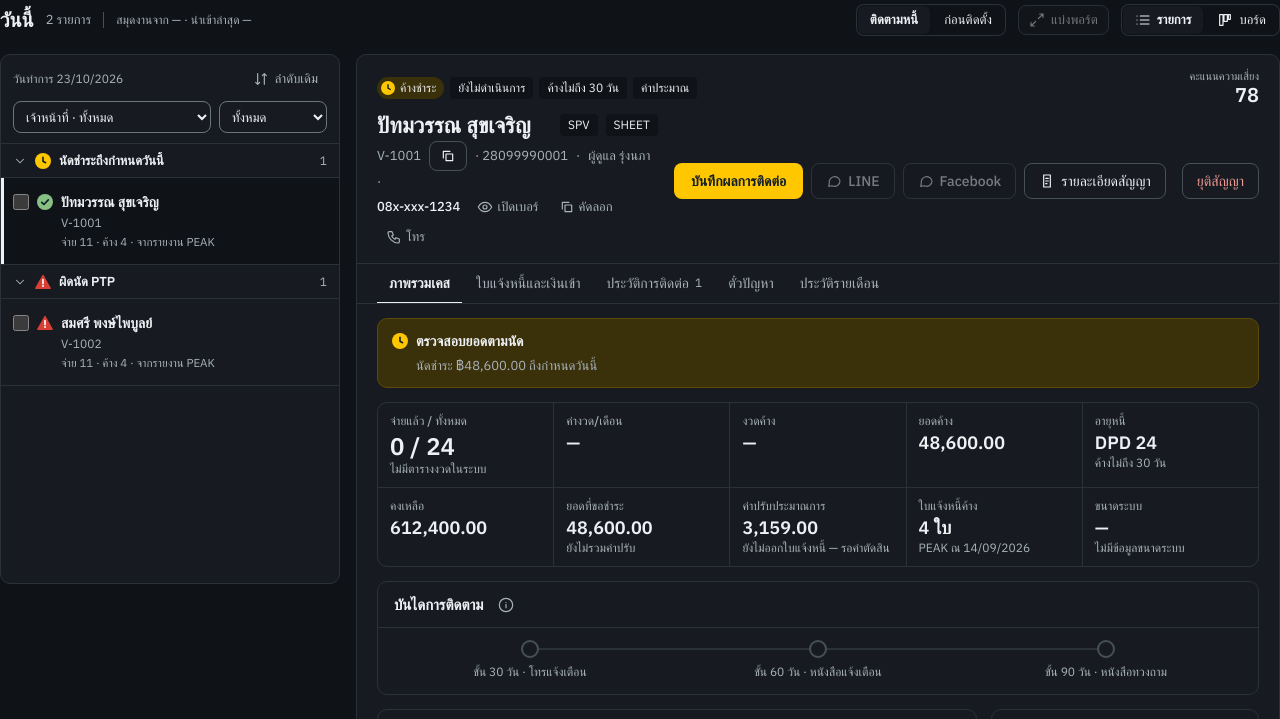
Test: Today bulk assignment (F10) › clears the previous desk and assignment selection while another officer loads
Click the checkbox named "เลือก ปัทมวรรณ สุขเจริญ": (21, 202) [13,194,29,210]
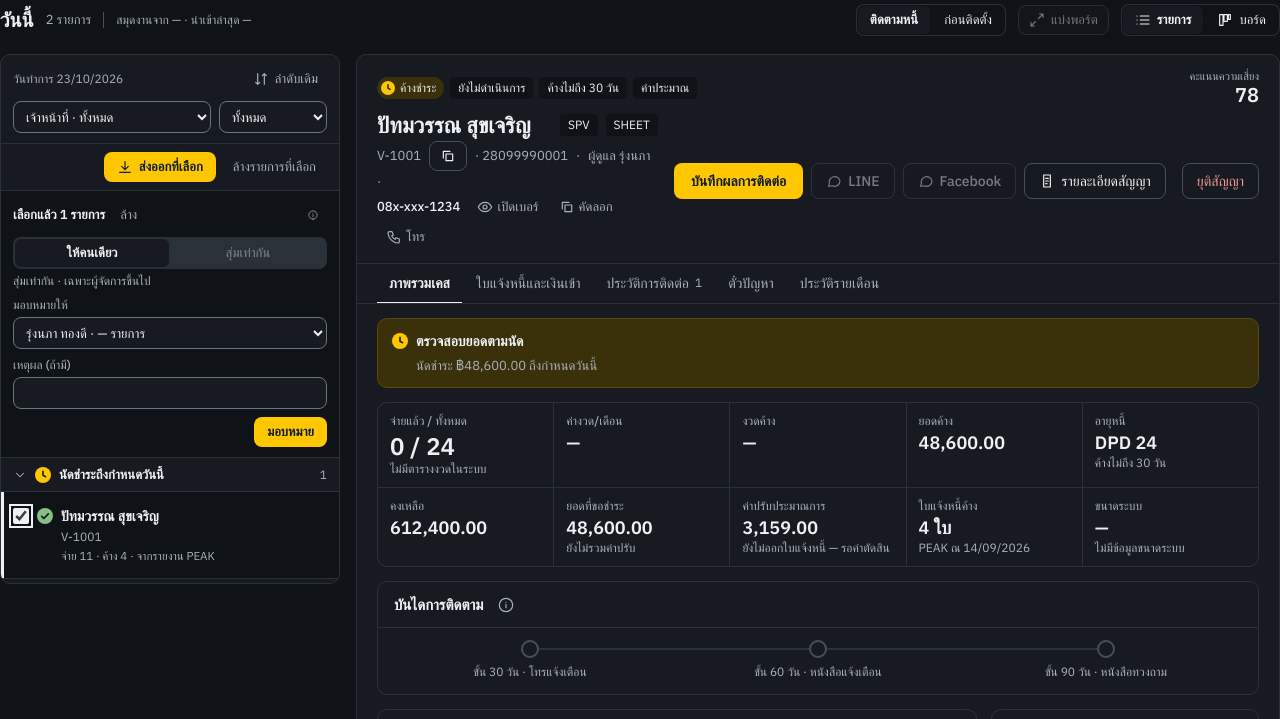
Select "สมชาย ใจกล้า" in the dropdown named "เจ้าหน้าที่": (112, 117) [13,101,211,133]
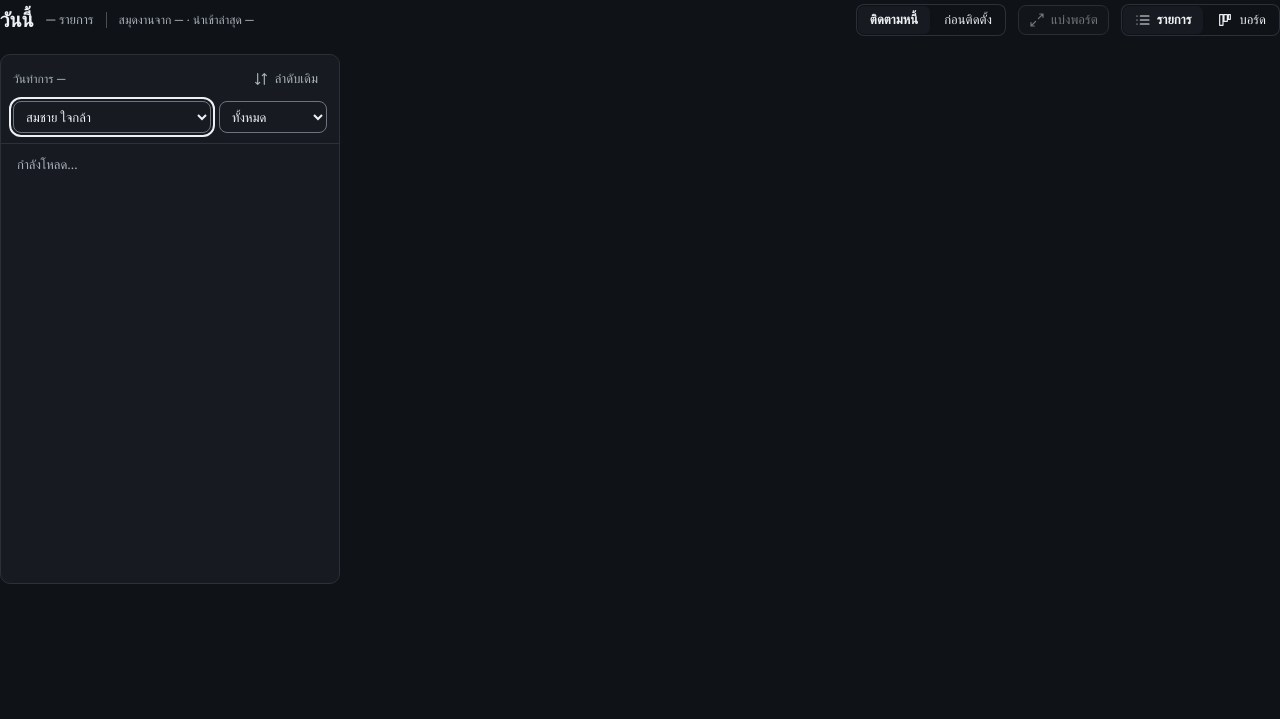
Expected: the button "ปัทมวรรณ" is gone
Expected: the button "ปัทมวรรณ สุขเจริญ" is gone
Expected: the text "เลือกแล้ว 1 รายการ" is gone
